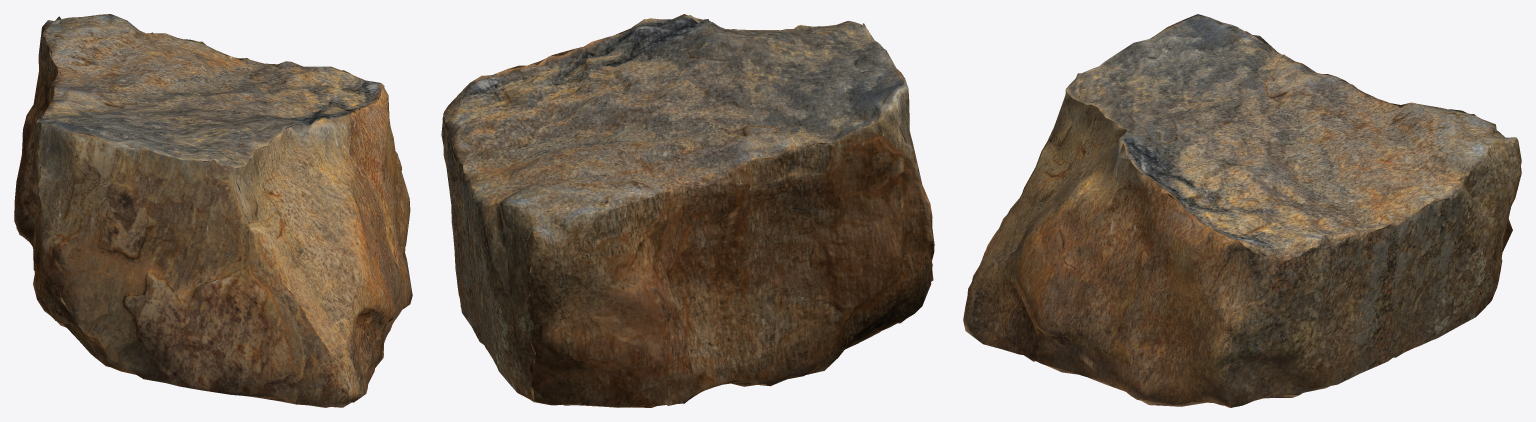
File: namaqualand_boulder_03_LOD1.fbx
The picture shows the model from 3 angles, left to right: view 1: azimuth 30°, elevation 25°; view 2: azimuth 150°, elevation 25°; view 3: azimuth 270°, elevation 25°; orthographic projection. The views are drawn at different scales.
Visible parts, largest first — view 1: namaqualand_boulder_03.001; view 2: namaqualand_boulder_03.001; view 3: namaqualand_boulder_03.001.
Part boxes in pixels (x1,y1,x2,y2): namaqualand_boulder_03.001: [14, 14, 412, 407]; namaqualand_boulder_03.001: [441, 14, 934, 407]; namaqualand_boulder_03.001: [963, 14, 1521, 407].
Size of the model in its own units: 2.41 by 1.48 by 3.07.
1 material, 1 textured.
